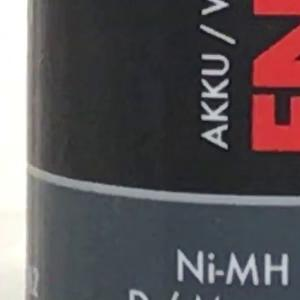NIMH: (168, 244, 297, 292)
